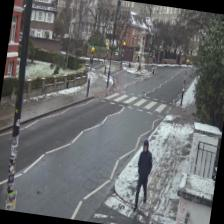person: (130, 139, 155, 213)
